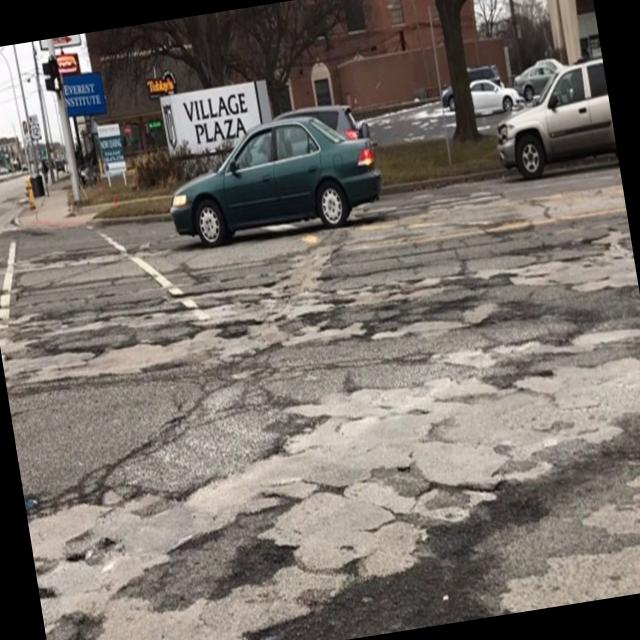Potholes: (153, 392, 640, 640)
